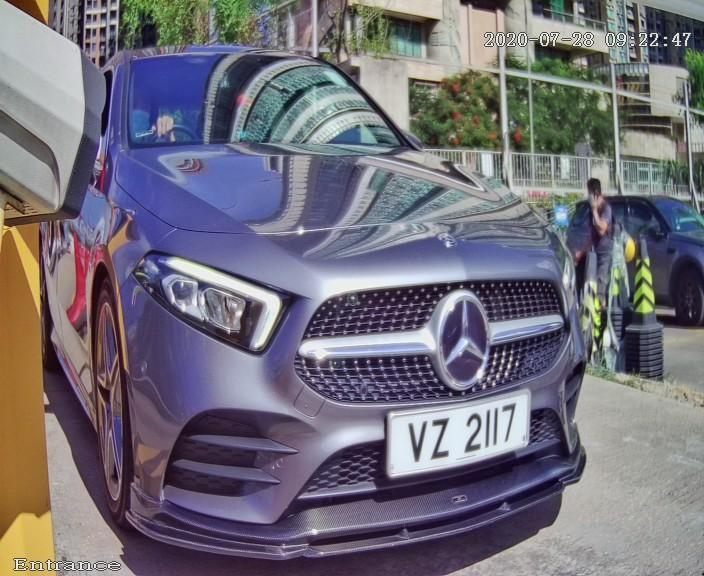privatecar: (19, 6, 661, 571)
